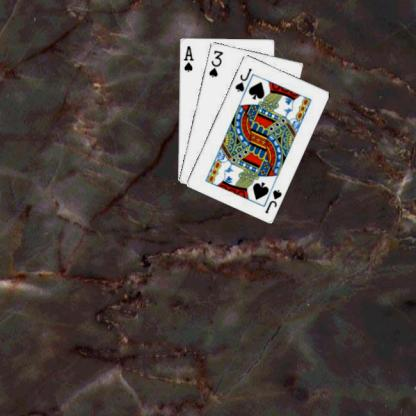3S: (206, 47, 224, 78)
AS: (180, 43, 194, 73)
JS: (232, 65, 253, 93), (262, 187, 283, 214)
